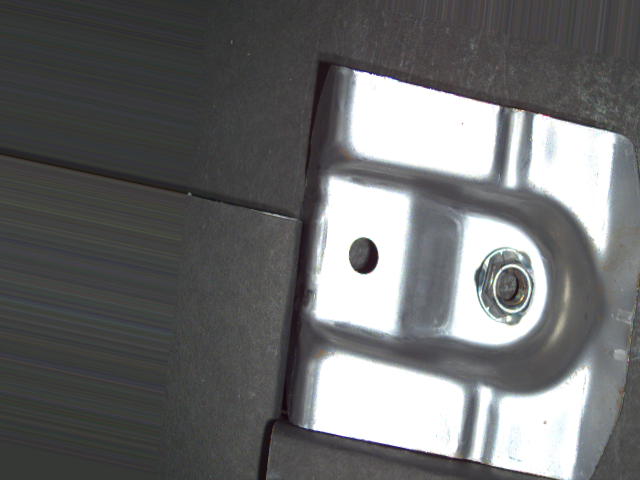good: (473, 245, 539, 331)
